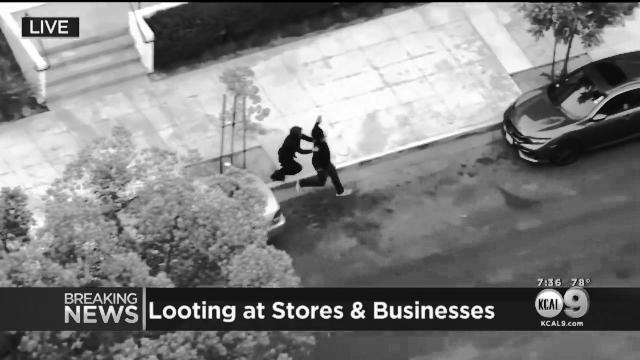berlari: (296, 108, 358, 209), (264, 113, 304, 187)
